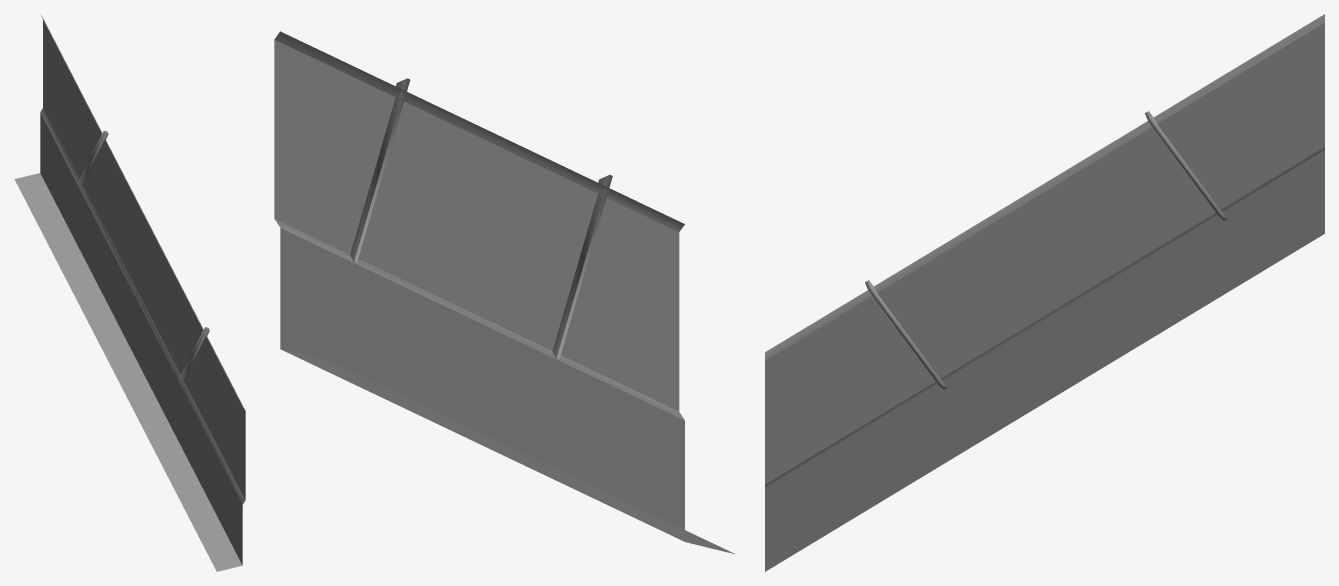
File: SW_ENV_Escalator_8Step_Connector_Endcap.fbx
3 renders of one model, left to right at view 1: azimuth 30°, elevation 25°; view 2: azimuth 150°, elevation 25°; view 3: azimuth 270°, elevation 25°, orthographic. The views are drawn at different scales.
Parts seen in each view (by area): view 1: SW_ENV_Escalator_8Step_Connector_Endcap; view 2: SW_ENV_Escalator_8Step_Connector_Endcap; view 3: SW_ENV_Escalator_8Step_Connector_Endcap.
Boxes of the visible parts, bbox=[...] form: SW_ENV_Escalator_8Step_Connector_Endcap: bbox=[14, 15, 245, 571]; SW_ENV_Escalator_8Step_Connector_Endcap: bbox=[274, 31, 735, 554]; SW_ENV_Escalator_8Step_Connector_Endcap: bbox=[765, 14, 1324, 571].
Size of the model in its own units: 0.2063 by 2.64 by 2.4.
